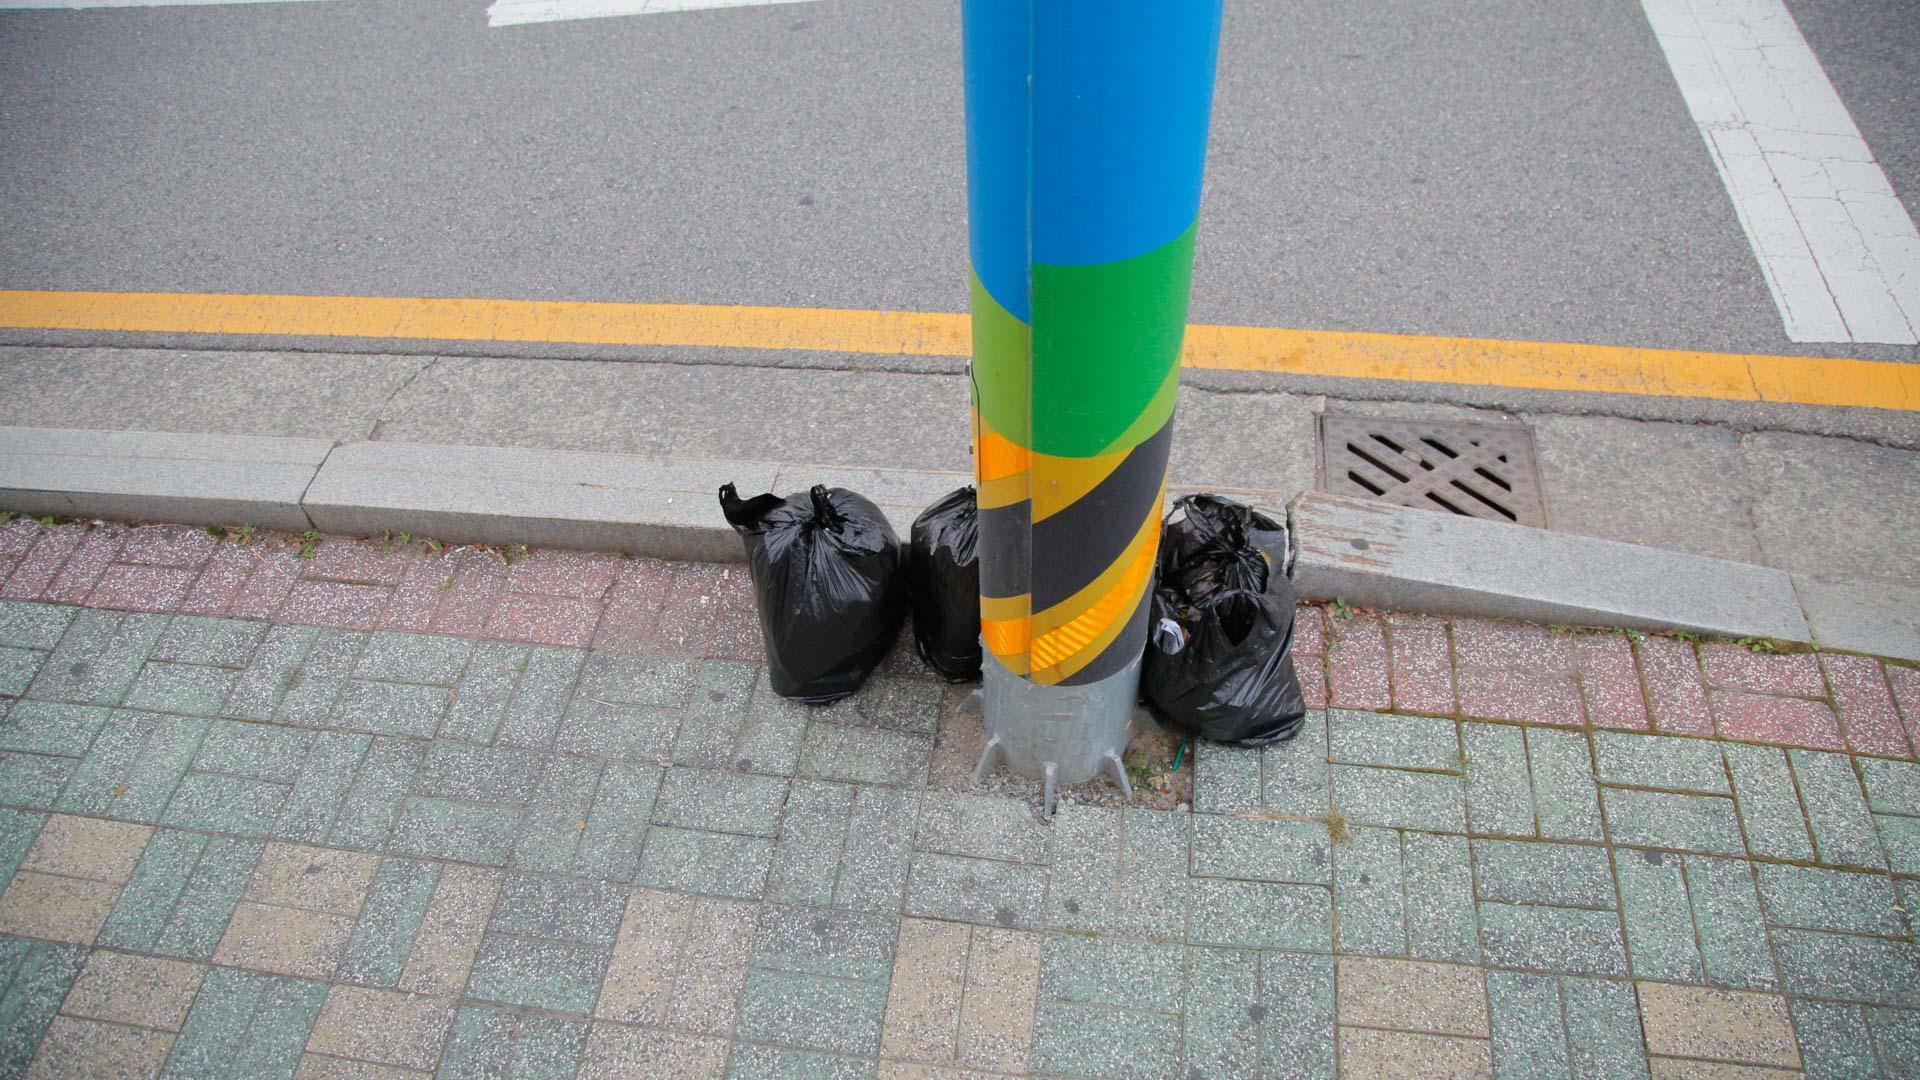black_bag: (702, 467, 916, 720), (1127, 487, 1317, 764), (905, 479, 1005, 698)
